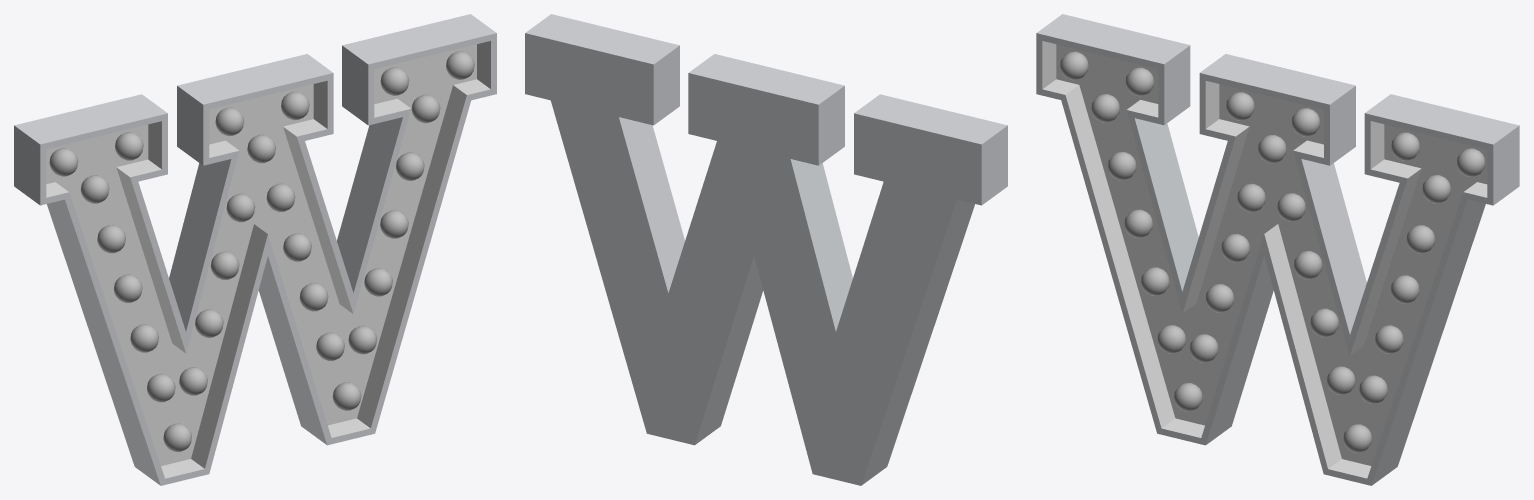
File: LettersBulb01_W.FBX
3 renders of one model, left to right at view 1: azimuth 30°, elevation 25°; view 2: azimuth 150°, elevation 25°; view 3: azimuth 330°, elevation 25°, orthographic.
Parts seen in each view (by area): view 1: LettersBulb01_W; view 2: LettersBulb01_W; view 3: LettersBulb01_W.
Part boxes in pixels (<box>): LettersBulb01_W: <box>14,14,496,485</box>; LettersBulb01_W: <box>525,14,1007,485</box>; LettersBulb01_W: <box>1036,14,1519,485</box>.
Size of what is drawn, in the model's own units: 1.57 by 1.22 by 0.1563.
